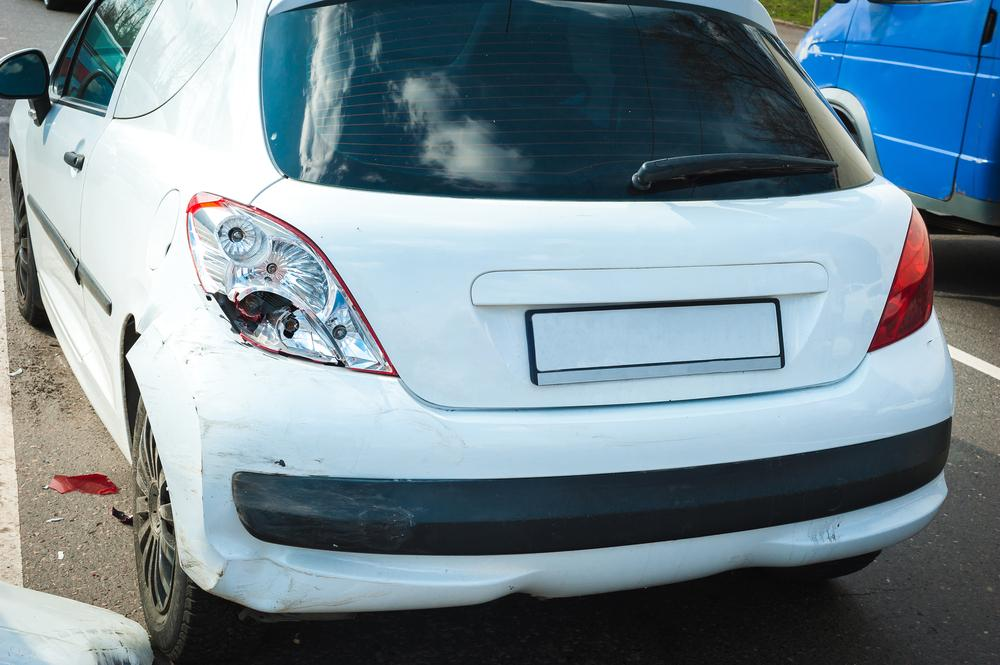lamp broken: (183, 191, 400, 378)
scratch: (193, 404, 314, 474)
